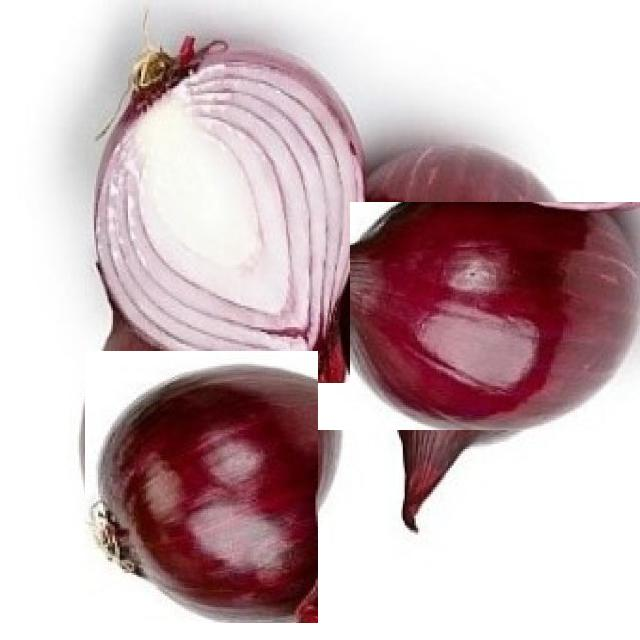Onion: (322, 168, 618, 464), (112, 43, 350, 383), (75, 361, 328, 613)
